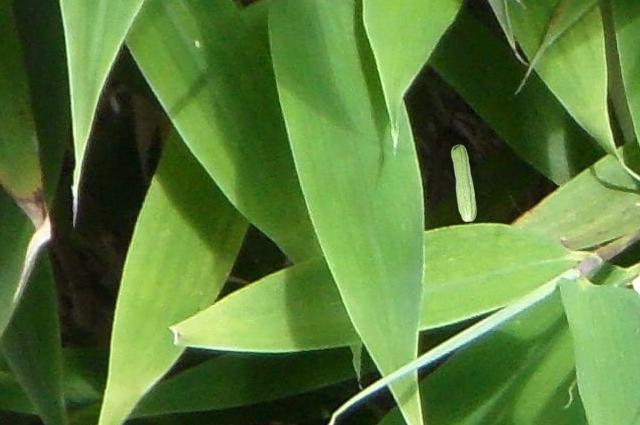ampalaya: (450, 144, 477, 222)
